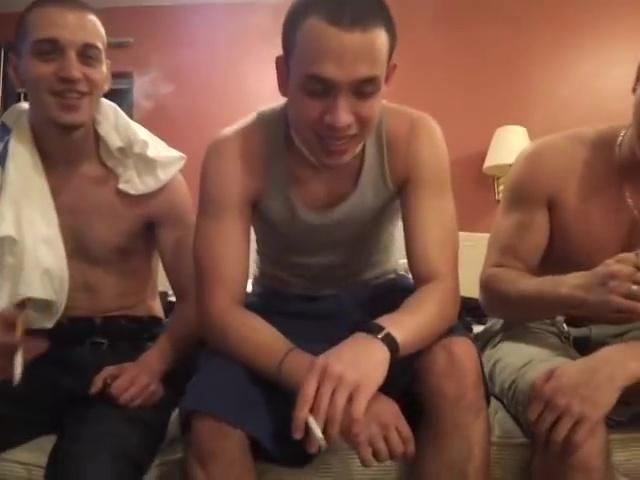cigarette: (8, 304, 29, 387), (304, 407, 332, 447)
